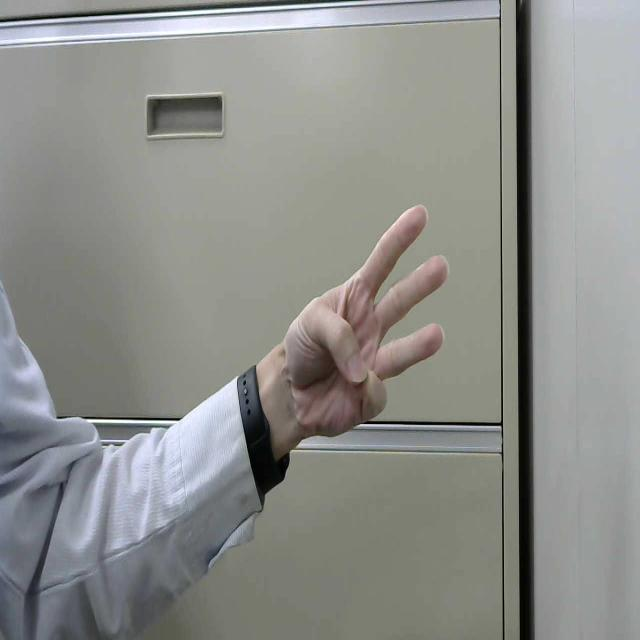Hand: (293, 182, 449, 458)
